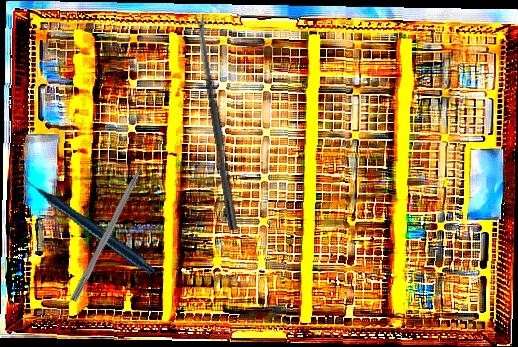Handpiece: (23, 142, 156, 302)
Pusher: (69, 145, 157, 304)
Surgical Spoon: (195, 13, 239, 231)
